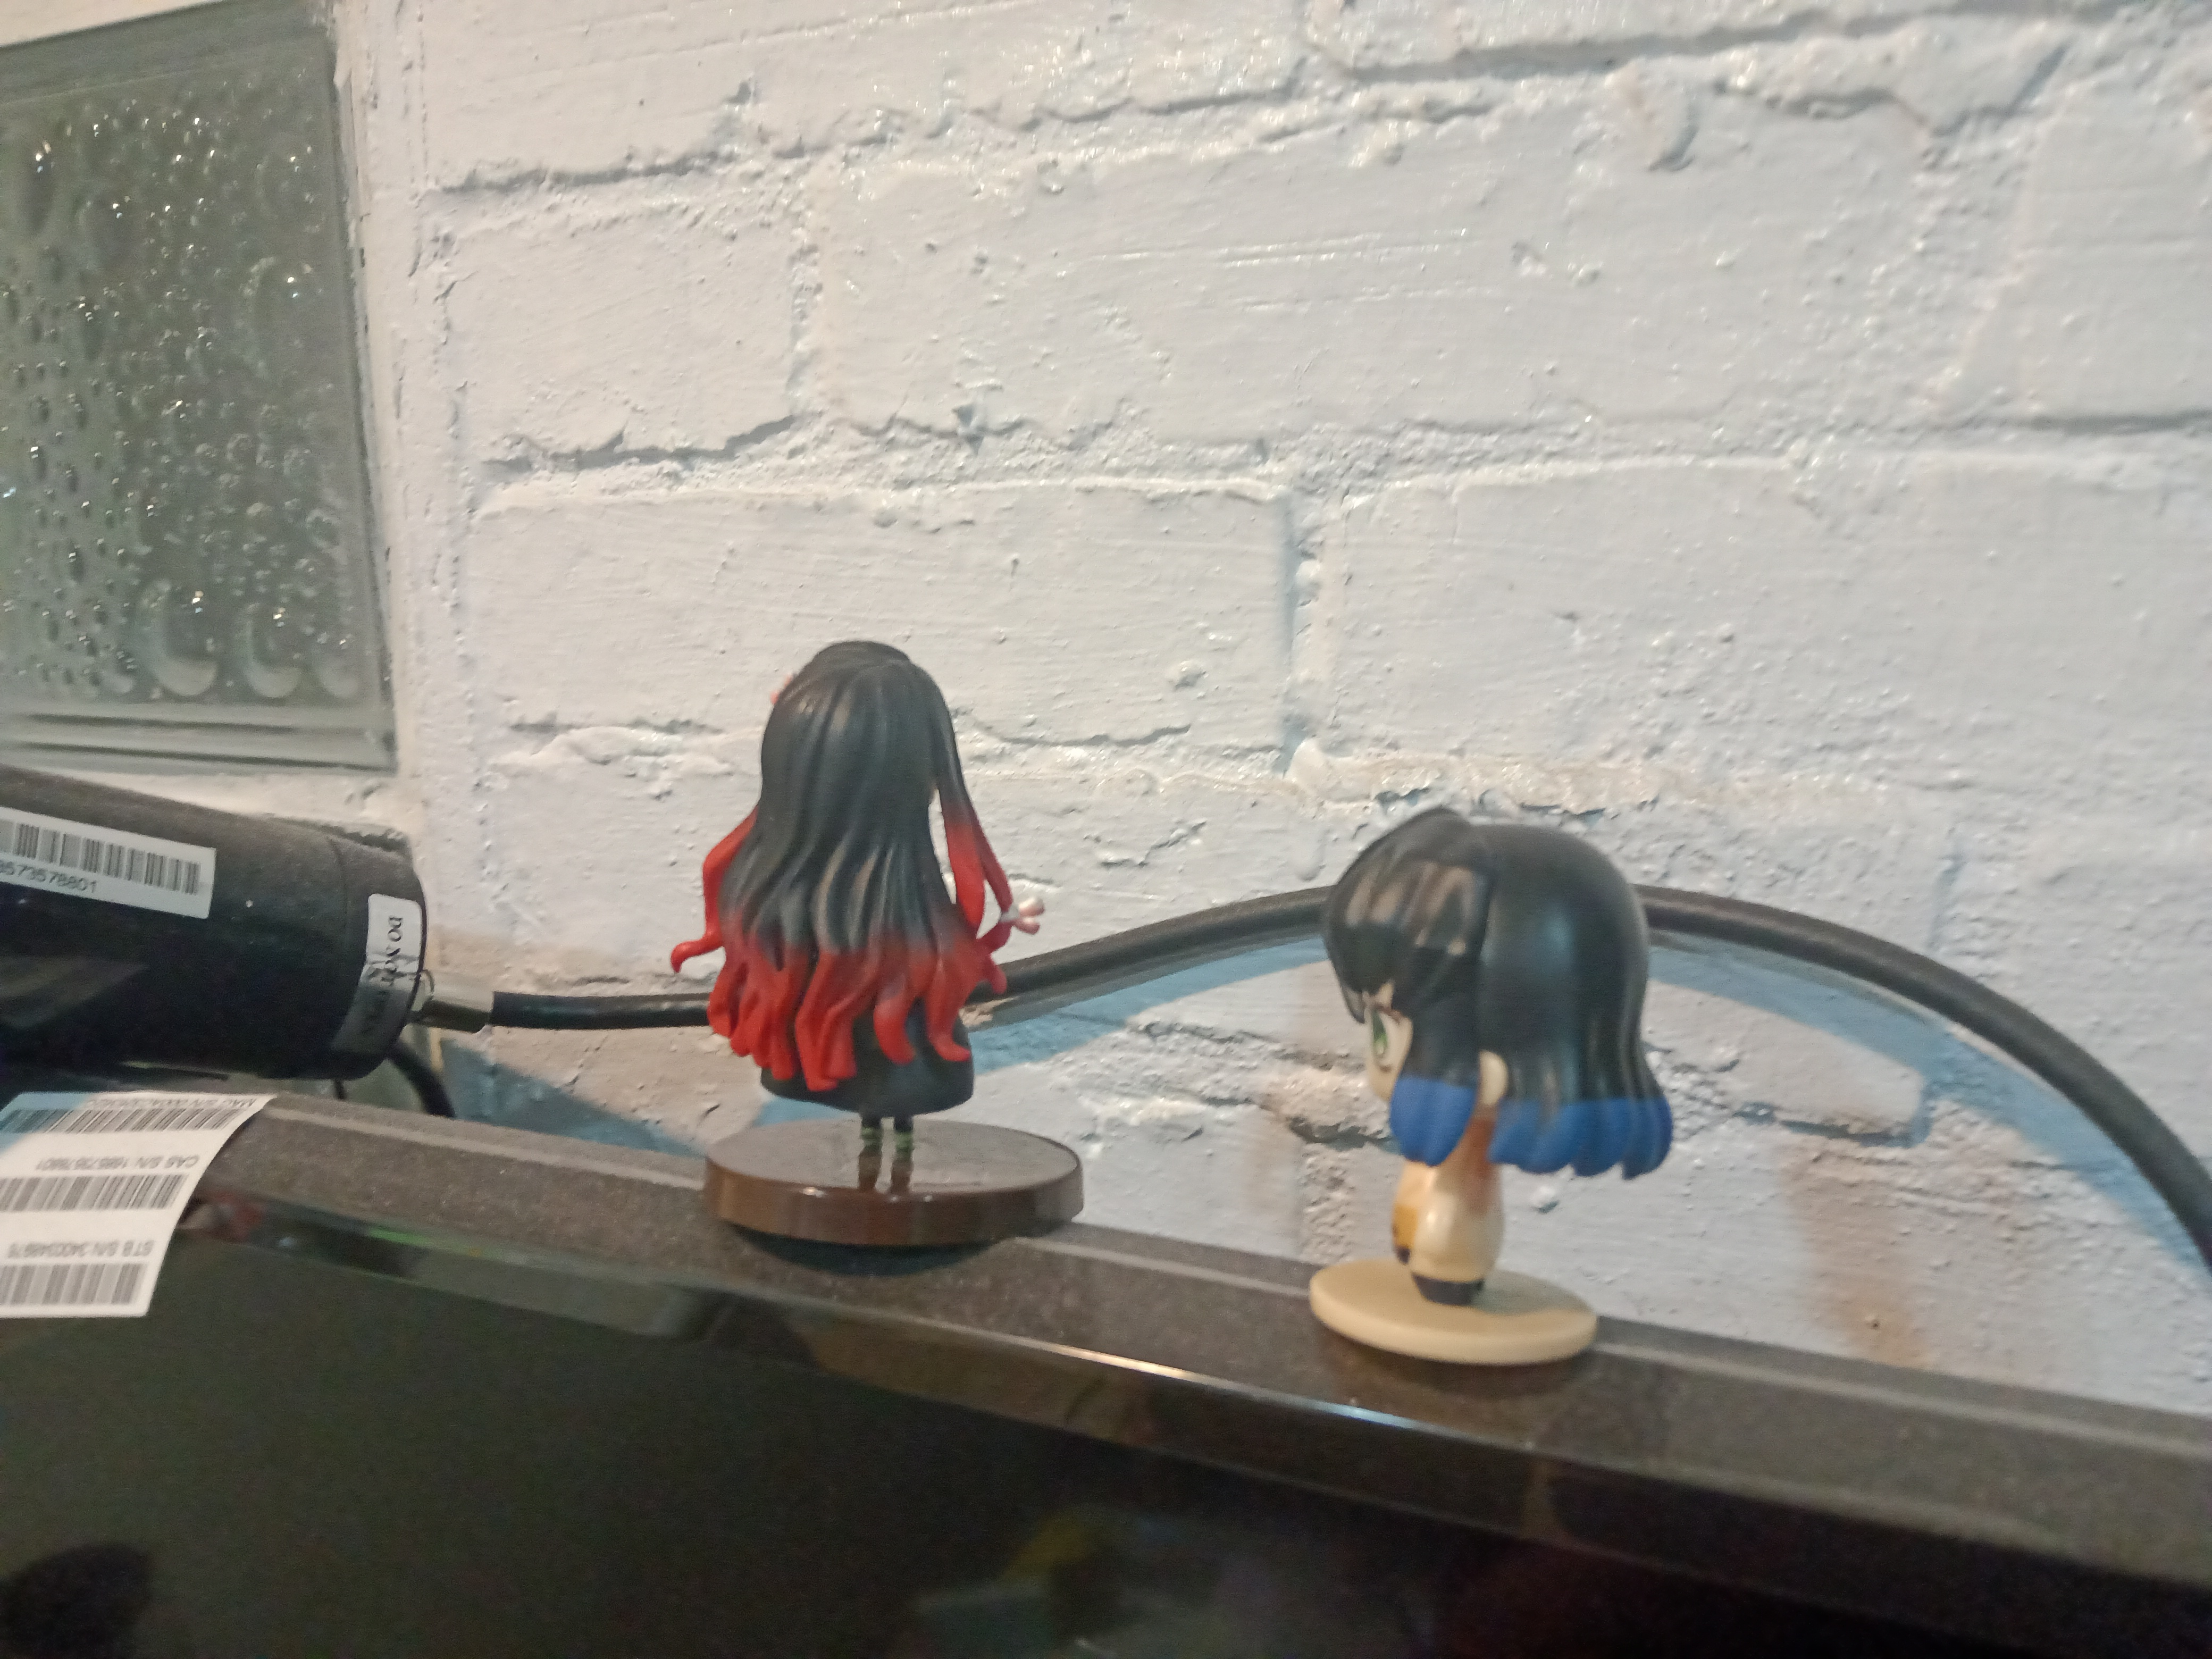Inosuke: (1280, 789, 1689, 1382)
Nezuko: (650, 619, 1122, 1274)
